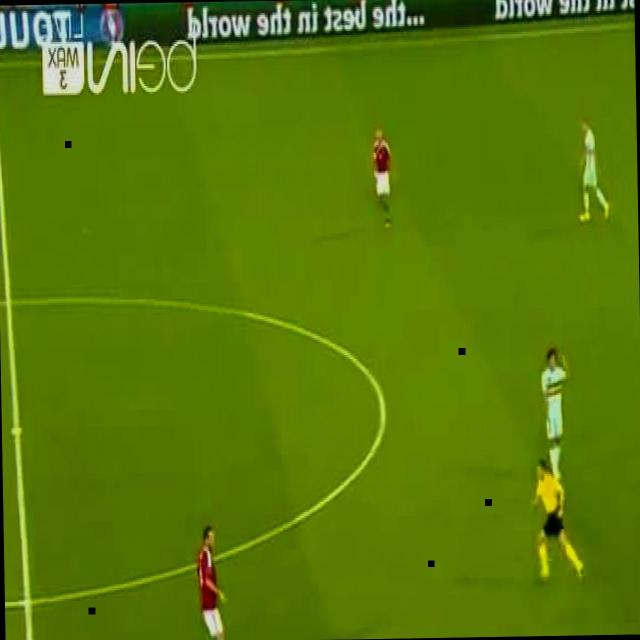player-white: (531, 458, 583, 582), (190, 523, 233, 640), (541, 344, 571, 490), (578, 116, 610, 222), (372, 126, 394, 230)
